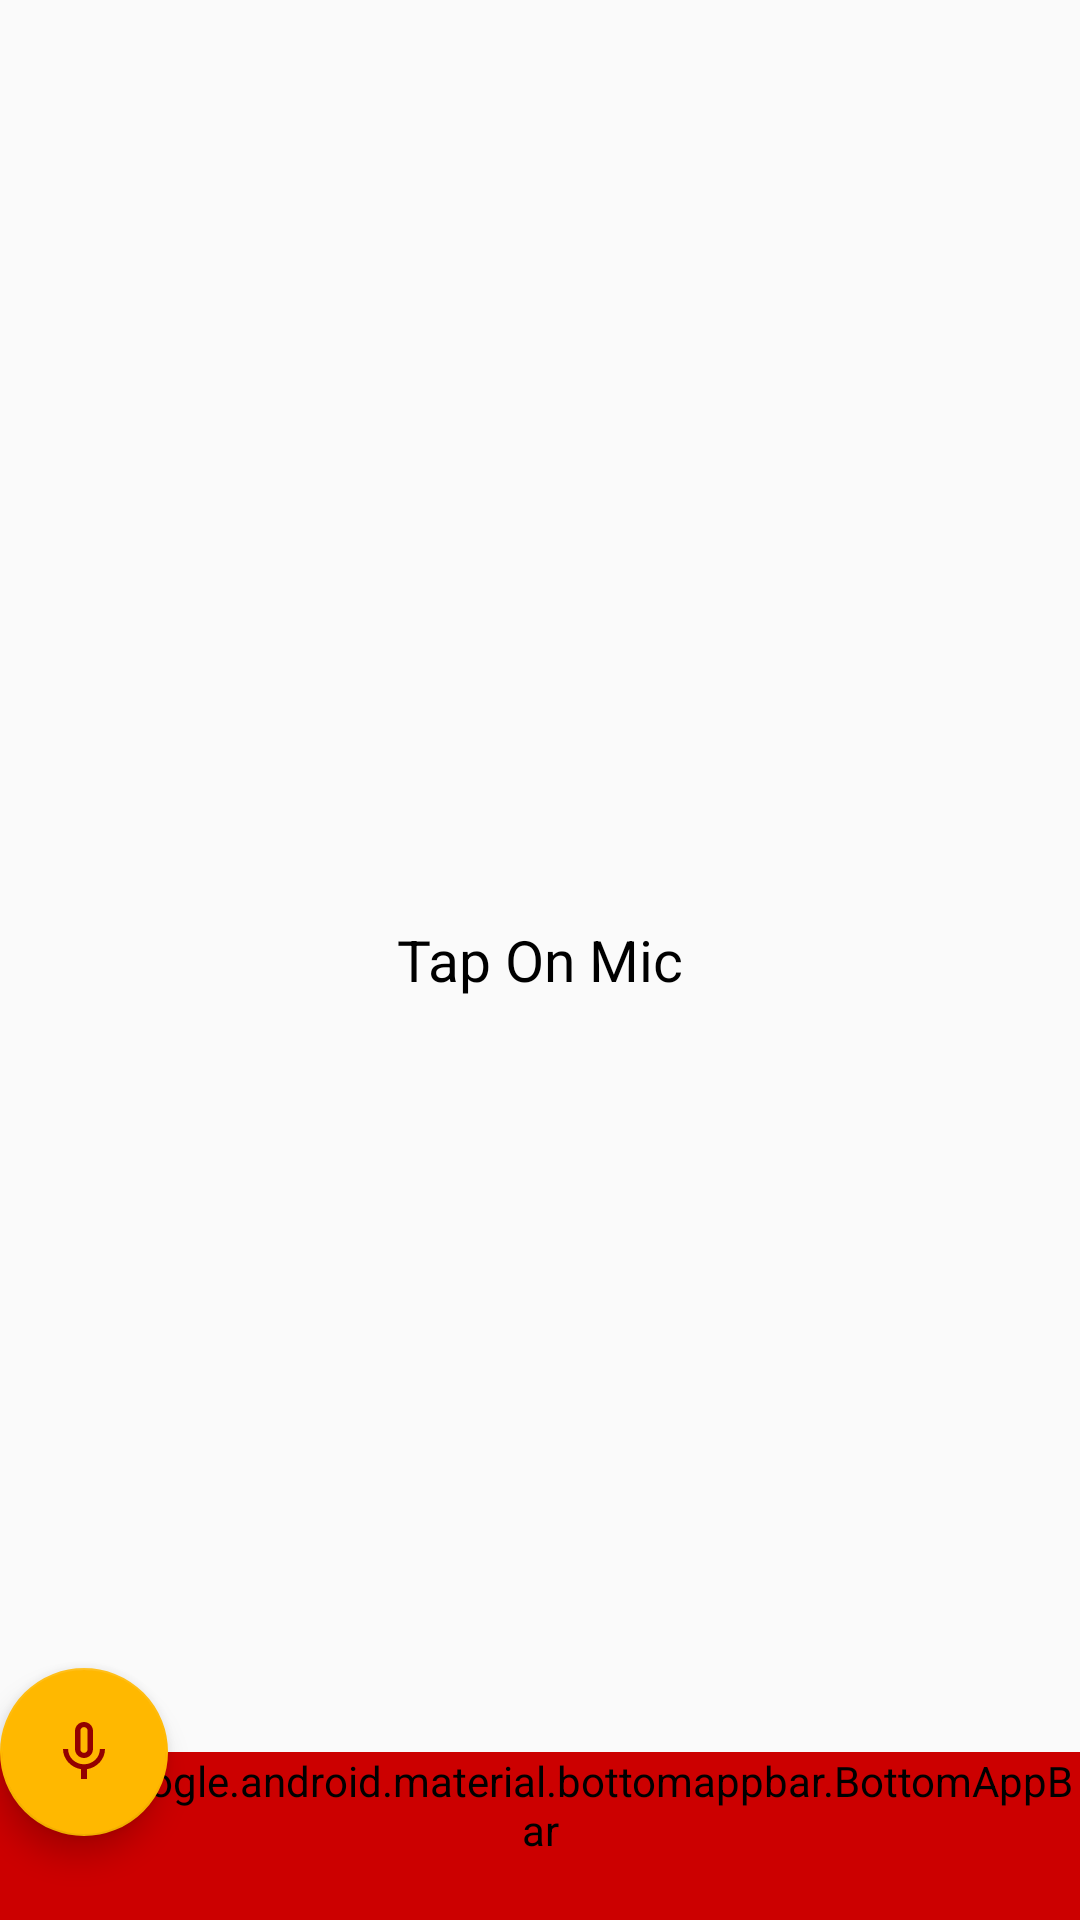

Where to tap for icons on this 1080 x 1920 app screen, as point (x, y):
mic none: point (84, 1752)
